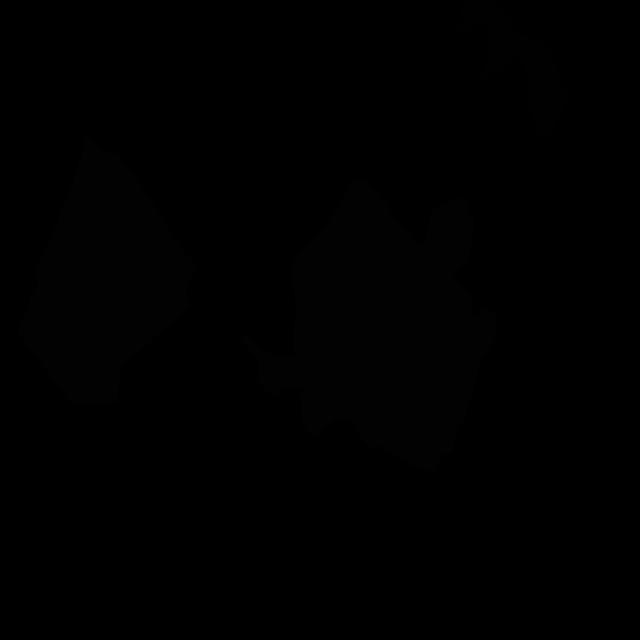cardboard: (17, 134, 197, 407), (238, 196, 474, 397), (300, 277, 497, 471), (291, 176, 424, 355)
rigid_plastic: (458, 0, 569, 142)
